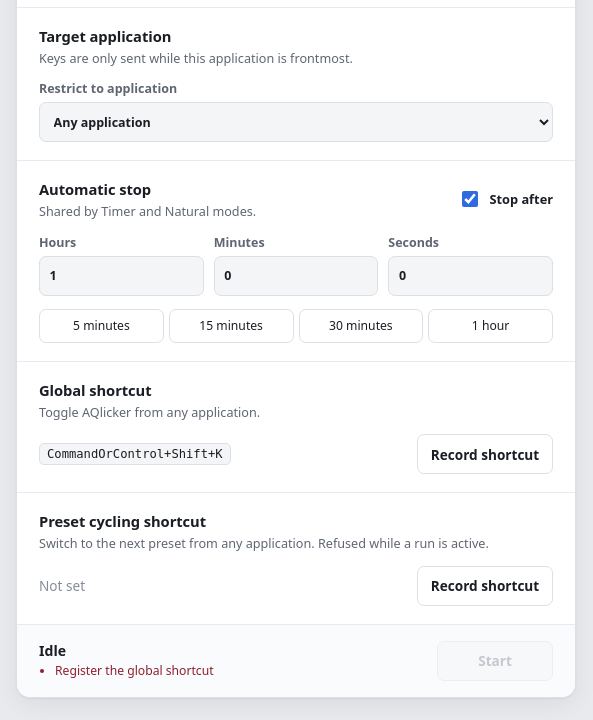
it: App › blocks Start until an unregistered shortcut is recorded successfully
(page scrolled)
Expected: the button "Start" is disabled, [437,641,553,681]
Expected: the list item "Register the global shortcut" is shown, [55,662,214,680]
Click the button with aria-label "Record global shortcut": x=485, y=454 [417,434,553,474]
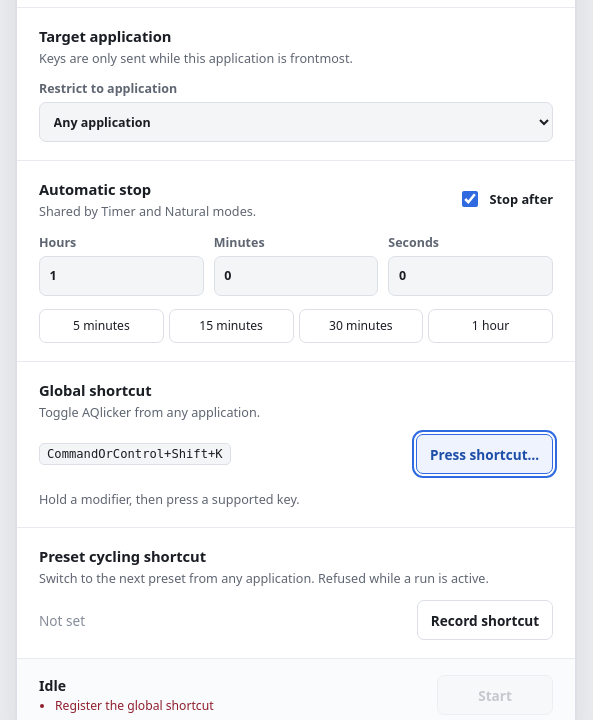
Press j in the button with aria-label "Press global shortcut", box [416,434,553,474]
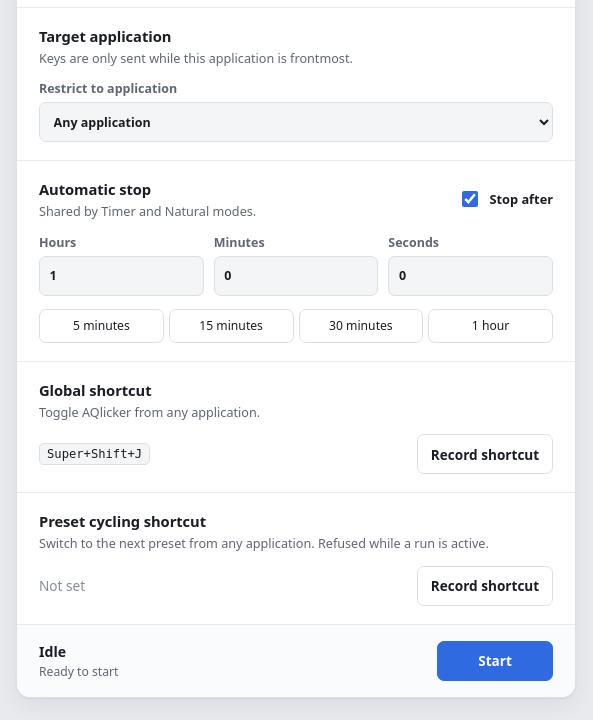
Result: the button "Start" is enabled at [437,641,553,681]
